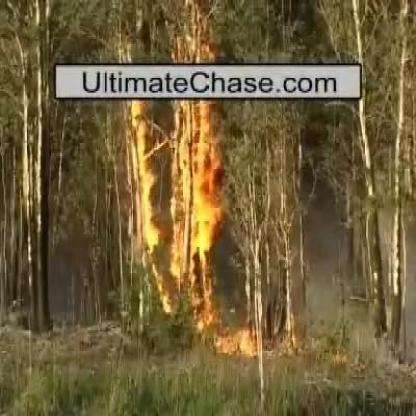foggia-v2-map80-epoch100 - v1 4323: (175, 102, 213, 292)
